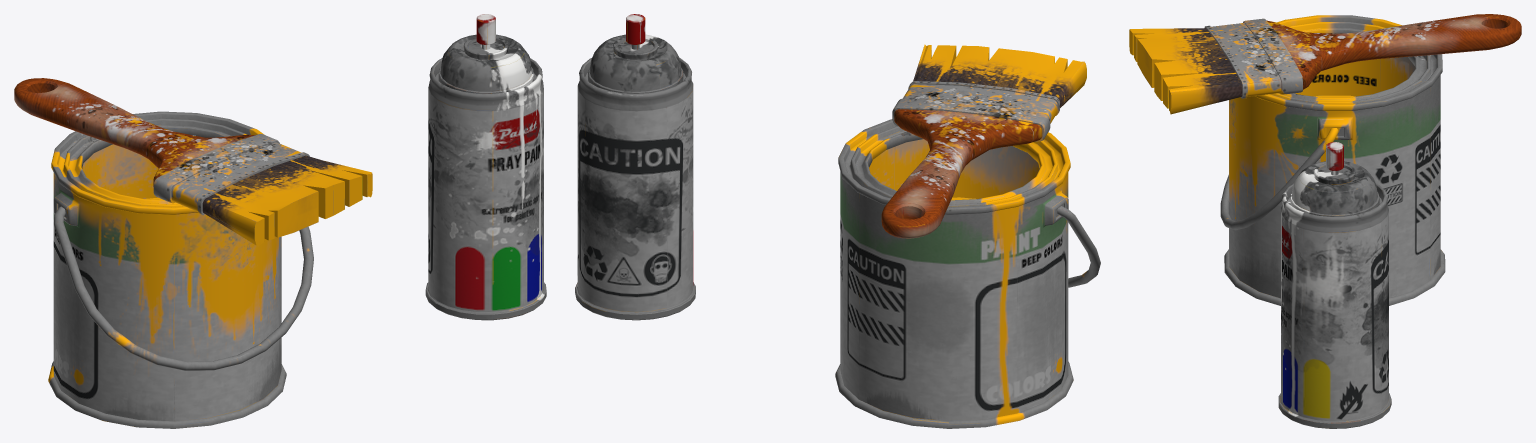
File: paint.glb
The picture shows the model from 3 angles, left to right: view 1: azimuth 30°, elevation 25°; view 2: azimuth 150°, elevation 25°; view 3: azimuth 270°, elevation 25°; orthographic projection. The views are drawn at different scales.
Bounding box in the file's own units: 7.3 × 4.04 × 5.42.
1 material, 1 textured.
